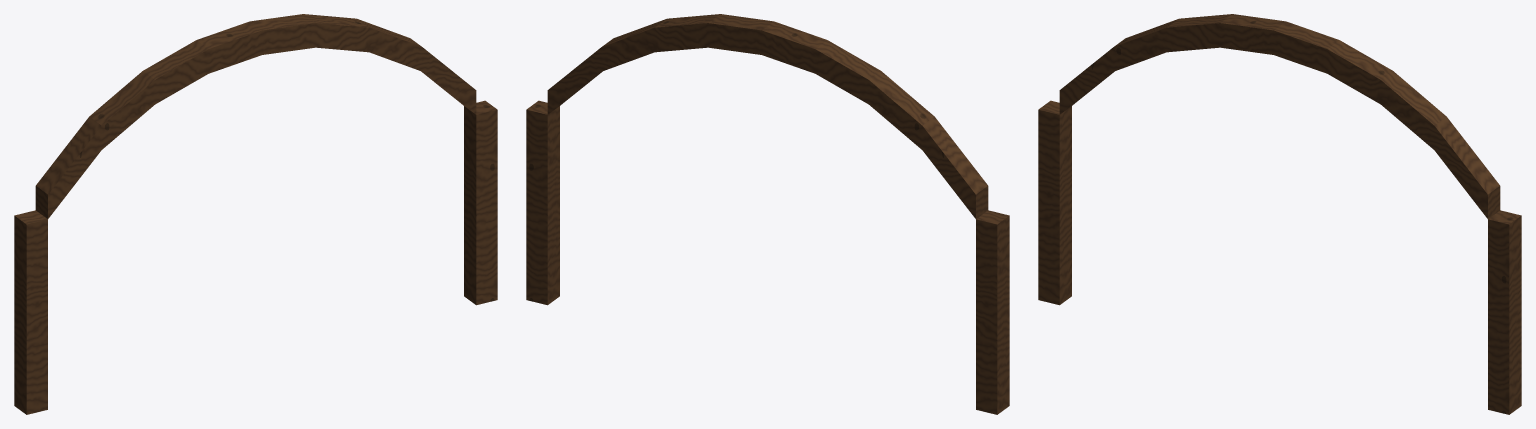
The model's file is arch_4m.glb.
3 views of the same model, side by side, from view 1: azimuth 30°, elevation 25°; view 2: azimuth 150°, elevation 25°; view 3: azimuth 330°, elevation 25° (orthographic).
Parts seen in each view (by area): view 1: arch_4m_band, post_l, post_r; view 2: arch_4m_band, post_l, post_r; view 3: arch_4m_band, post_r, post_l.
Boxes of the visible parts, left/top/right/bottom form: arch_4m_band: left=35, top=14, right=476, bottom=218; post_l: left=14, top=210, right=47, bottom=414; post_r: left=464, top=100, right=497, bottom=305; arch_4m_band: left=547, top=14, right=988, bottom=218; post_l: left=976, top=210, right=1009, bottom=414; post_r: left=526, top=100, right=559, bottom=305; arch_4m_band: left=1059, top=14, right=1500, bottom=218; post_r: left=1488, top=210, right=1521, bottom=414; post_l: left=1038, top=100, right=1071, bottom=305.
Size of the model in its own units: 4.4 by 2.92 by 0.2.
Materials: 1 (1 with a texture image).
